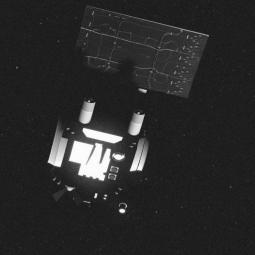proba_3_csc: (37, 16, 202, 223)
